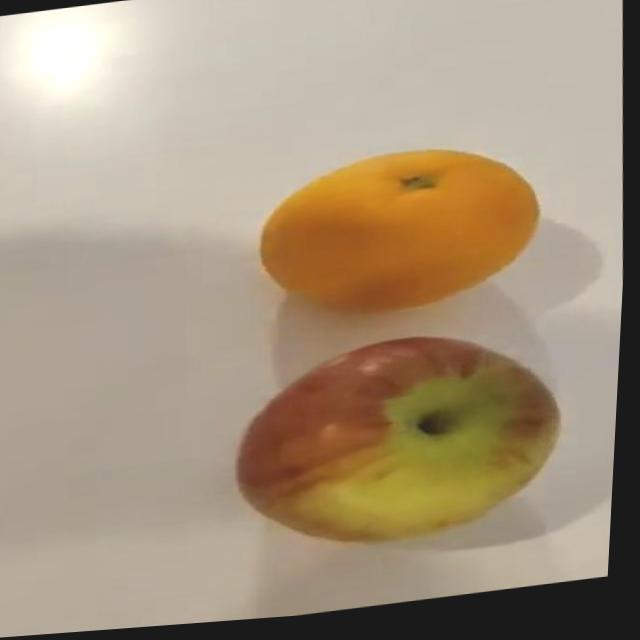Apple: (232, 325, 576, 567)
Orange: (255, 141, 551, 332)
